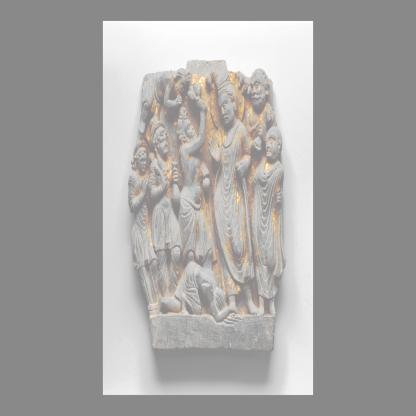buddha-standing: (209, 71, 258, 313)
